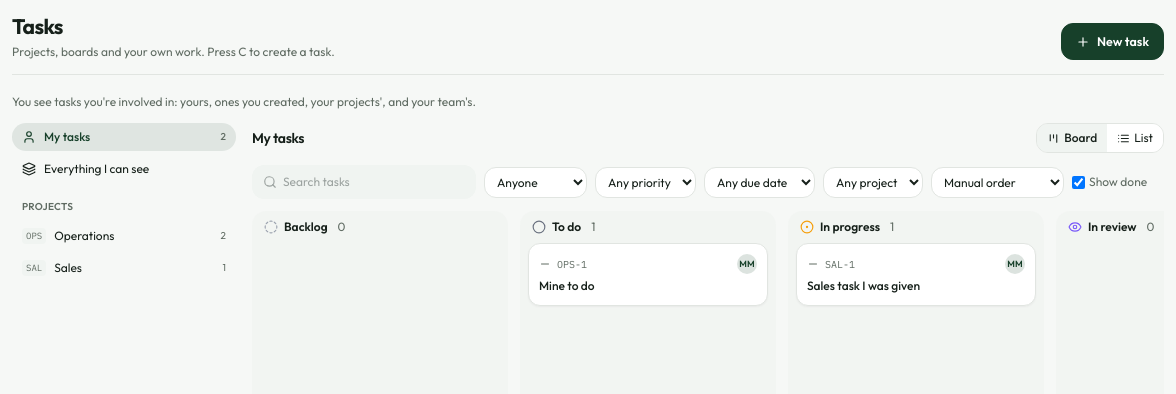
TaskWorkspace (staff) › starts on My tasks, switches to a project, and lists them
The width and height of the screenshot is (1176, 394).
Expected: the text "Mine to do" is shown, [539, 278, 595, 293]
Expected: the text "Sales task I was given" is shown, [807, 278, 920, 293]
Click the button "OPS Operations 2": coordinates (124, 236) [12, 222, 236, 250]
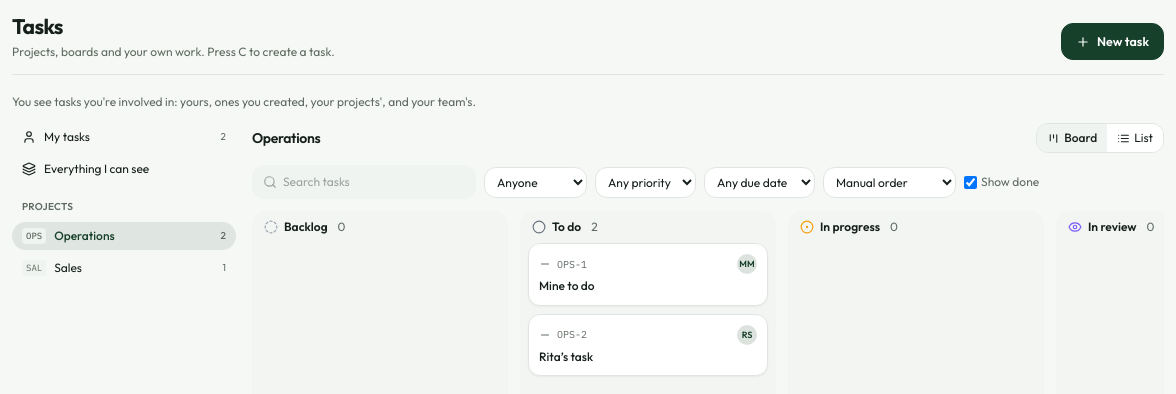
Now the text "Rita’s task" is shown, box [539, 348, 593, 364]
Now the button "Sales task I was given" is gone
Click the button "List": coordinates (1135, 138) [1107, 124, 1163, 152]
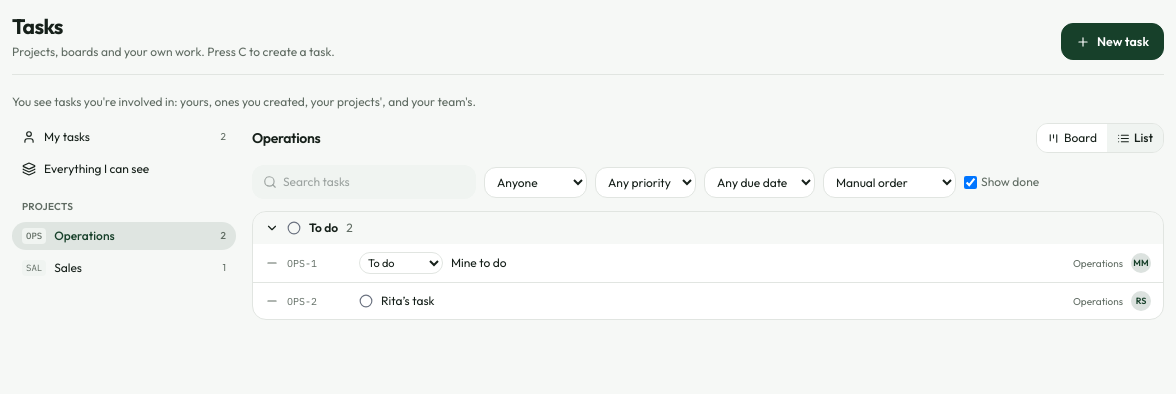
Now the element with test id "task-list" is shown, box [252, 211, 1164, 320]
